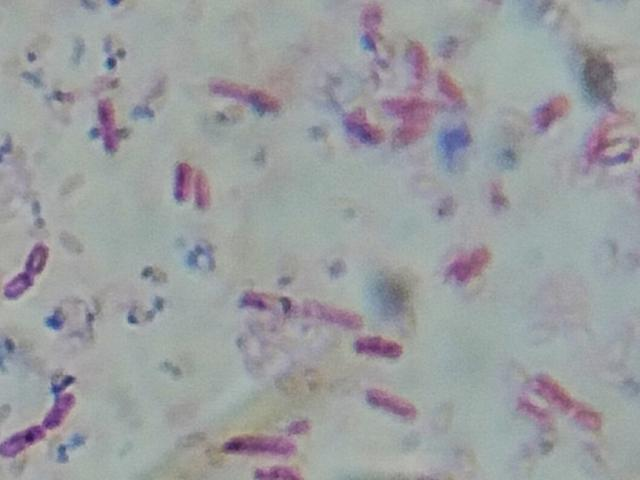E. coli: (239, 291, 367, 330), (212, 73, 295, 118), (538, 376, 605, 430), (1, 245, 54, 299), (453, 246, 505, 289), (383, 92, 466, 117), (368, 385, 415, 419), (231, 429, 291, 455), (1, 422, 43, 459), (396, 117, 439, 152), (96, 93, 121, 151), (541, 90, 573, 134), (41, 395, 80, 430), (405, 42, 434, 85), (165, 159, 193, 197), (361, 327, 399, 355), (342, 115, 378, 142), (193, 170, 214, 214), (437, 66, 462, 102), (362, 10, 383, 48)
